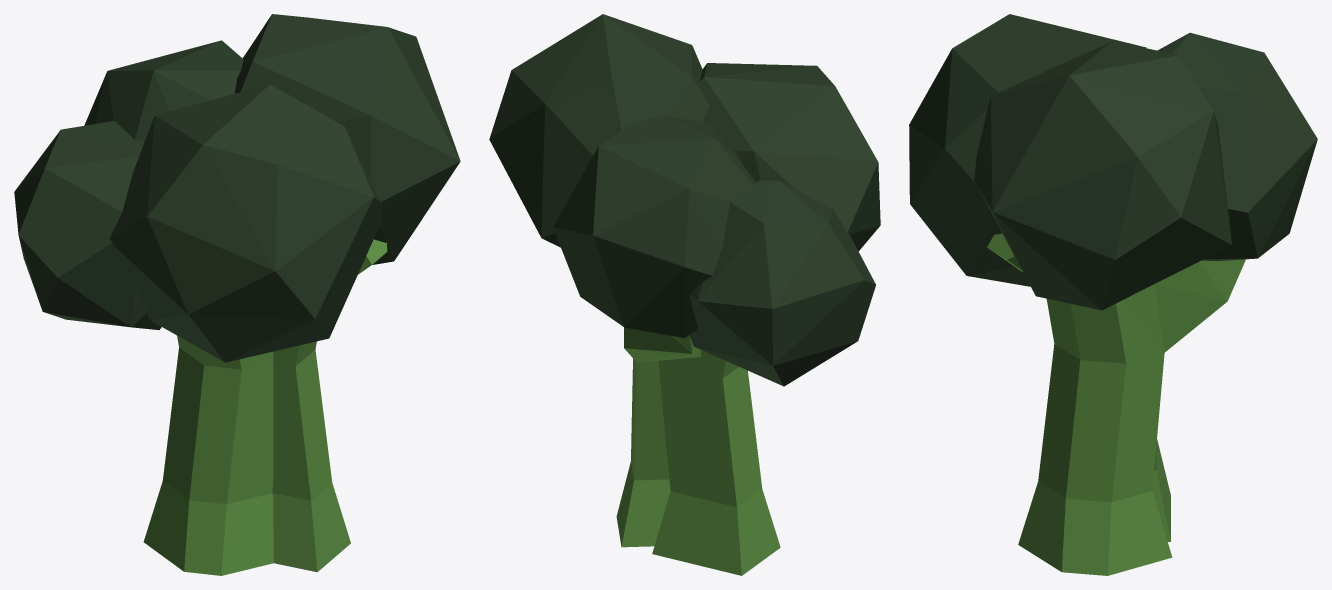
The model's file is broccoli.glb.
3 renders of one model, left to right at view 1: azimuth 30°, elevation 25°; view 2: azimuth 150°, elevation 25°; view 3: azimuth 270°, elevation 25°, orthographic. The views are drawn at different scales.
Parts seen in each view (by area): view 1: Broccoli; view 2: Broccoli; view 3: Broccoli.
Boxes of the visible parts, x1,y1,x2,y2 form: Broccoli: [14, 14, 460, 575]; Broccoli: [489, 14, 880, 575]; Broccoli: [909, 14, 1317, 575].
Bounding box in the file's own units: 0.7515 × 0.8996 × 0.6444.
